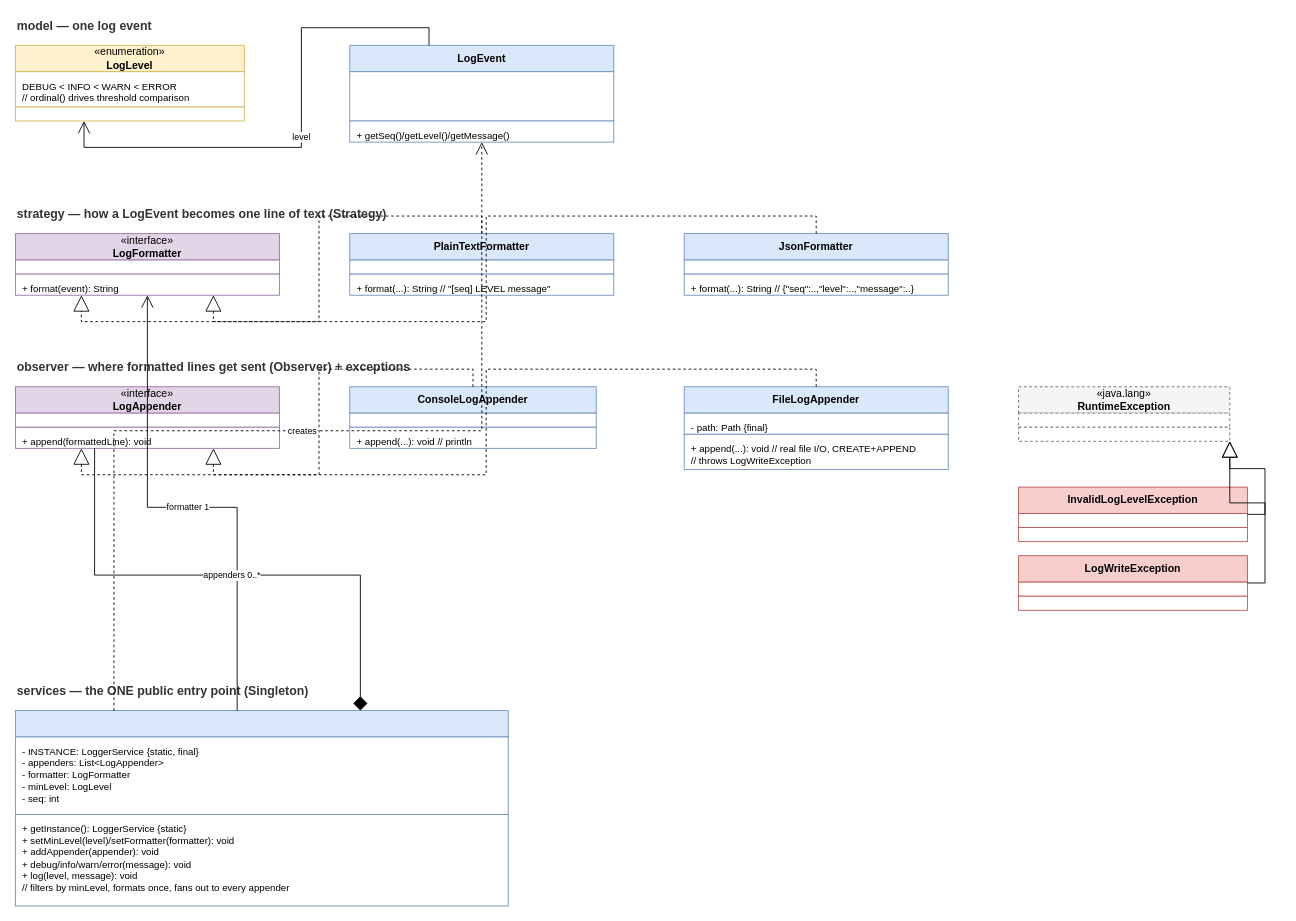
Some shapes in this 1296 by 921 pixel diagram are drawn without their labels. The box of each missing label's shape, as (x1, y1, x2, y2) in pixels:
- seq: int {final} - level: LogLevel {final} - message: String {final}: (349, 71, 614, 121)
«singleton» LoggerService: (15, 710, 508, 737)
